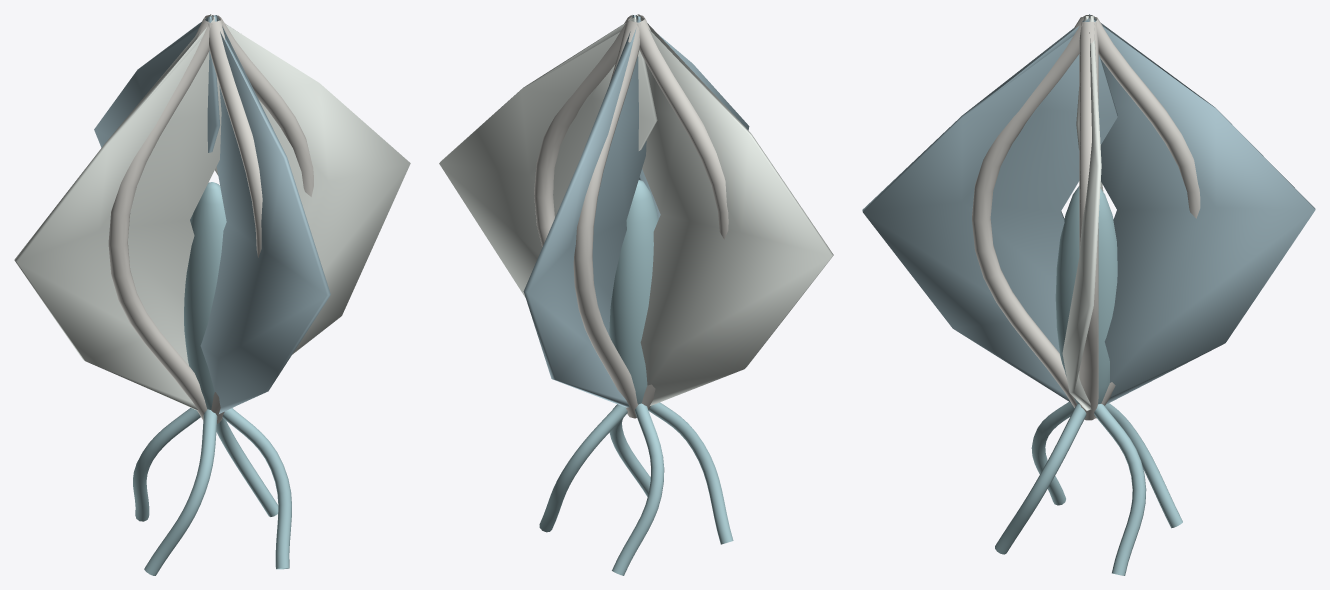
File: bio_lantern_sail_07_near.glb
3 views of the same model, side by side, from view 1: azimuth 30°, elevation 25°; view 2: azimuth 150°, elevation 25°; view 3: azimuth 270°, elevation 25° (orthographic).
Visible parts, largest first — view 1: Ribbed sensory membrane.002, Ribbed sensory membrane.003, Ribbed sensory membrane, Membrane leading seam.002, Buoyancy spindle, Ribbed sensory membrane.001, Membrane leading seam.003, Membrane leading seam, Trailing electroreceptor.003, Trailing electroreceptor.002, Trailing electroreceptor.001, Trailing electroreceptor; view 2: Ribbed sensory membrane.002, Ribbed sensory membrane, Ribbed sensory membrane.001, Buoyancy spindle, Membrane leading seam.001, Membrane leading seam.002, Membrane leading seam, Trailing electroreceptor.001, Trailing electroreceptor.002, Trailing electroreceptor, Trailing electroreceptor.003, Ribbed sensory membrane.003; view 3: Ribbed sensory membrane.001, Ribbed sensory membrane.003, Membrane leading seam.003, Buoyancy spindle, Ribbed sensory membrane, Membrane leading seam, Membrane leading seam.001, Trailing electroreceptor, Trailing electroreceptor.003, Trailing electroreceptor.001, Trailing electroreceptor.002.
Boxes of the visible parts, x1,y1,x2,y2 form: Ribbed sensory membrane.002: [14, 16, 221, 410]; Ribbed sensory membrane.003: [200, 15, 330, 413]; Ribbed sensory membrane: [210, 14, 410, 354]; Membrane leading seam.002: [108, 18, 212, 420]; Buoyancy spindle: [184, 182, 226, 409]; Ribbed sensory membrane.001: [94, 16, 220, 221]; Membrane leading seam.003: [207, 20, 262, 423]; Membrane leading seam: [217, 15, 313, 420]; Trailing electroreceptor.003: [222, 408, 291, 569]; Trailing electroreceptor.002: [144, 409, 217, 575]; Trailing electroreceptor.001: [133, 408, 200, 521]; Trailing electroreceptor: [216, 418, 278, 516]; Ribbed sensory membrane.002: [637, 14, 833, 405]; Ribbed sensory membrane: [439, 16, 657, 297]; Ribbed sensory membrane.001: [523, 16, 646, 407]; Buoyancy spindle: [609, 180, 658, 404]; Membrane leading seam.001: [573, 20, 640, 418]; Membrane leading seam.002: [636, 18, 728, 417]; Membrane leading seam: [534, 15, 632, 415]; Trailing electroreceptor.001: [612, 403, 664, 575]; Trailing electroreceptor.002: [648, 402, 733, 544]; Trailing electroreceptor: [539, 404, 627, 532]; Trailing electroreceptor.003: [609, 404, 650, 496]; Ribbed sensory membrane.003: [632, 15, 749, 219]; Ribbed sensory membrane.001: [1089, 14, 1315, 404]; Ribbed sensory membrane.003: [862, 18, 1117, 402]; Membrane leading seam.003: [972, 17, 1083, 407]; Buoyancy spindle: [1055, 186, 1117, 404]; Ribbed sensory membrane: [1062, 16, 1101, 410]; Membrane leading seam: [1079, 22, 1098, 420]; Membrane leading seam.001: [1094, 17, 1200, 418]; Trailing electroreceptor: [1094, 404, 1146, 575]; Trailing electroreceptor.003: [995, 404, 1086, 554]; Trailing electroreceptor.001: [1105, 403, 1182, 528]; Trailing electroreceptor.002: [1031, 402, 1074, 505].
Bounding box in the file's own units: 2.31 × 2.95 × 2.31.
